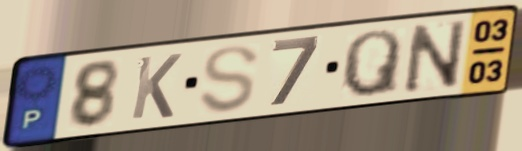7: (266, 32, 325, 110)
8: (66, 57, 123, 131)
K: (127, 51, 185, 122)
N: (402, 16, 469, 97)
Q: (338, 27, 404, 100)
S: (195, 42, 262, 116)
